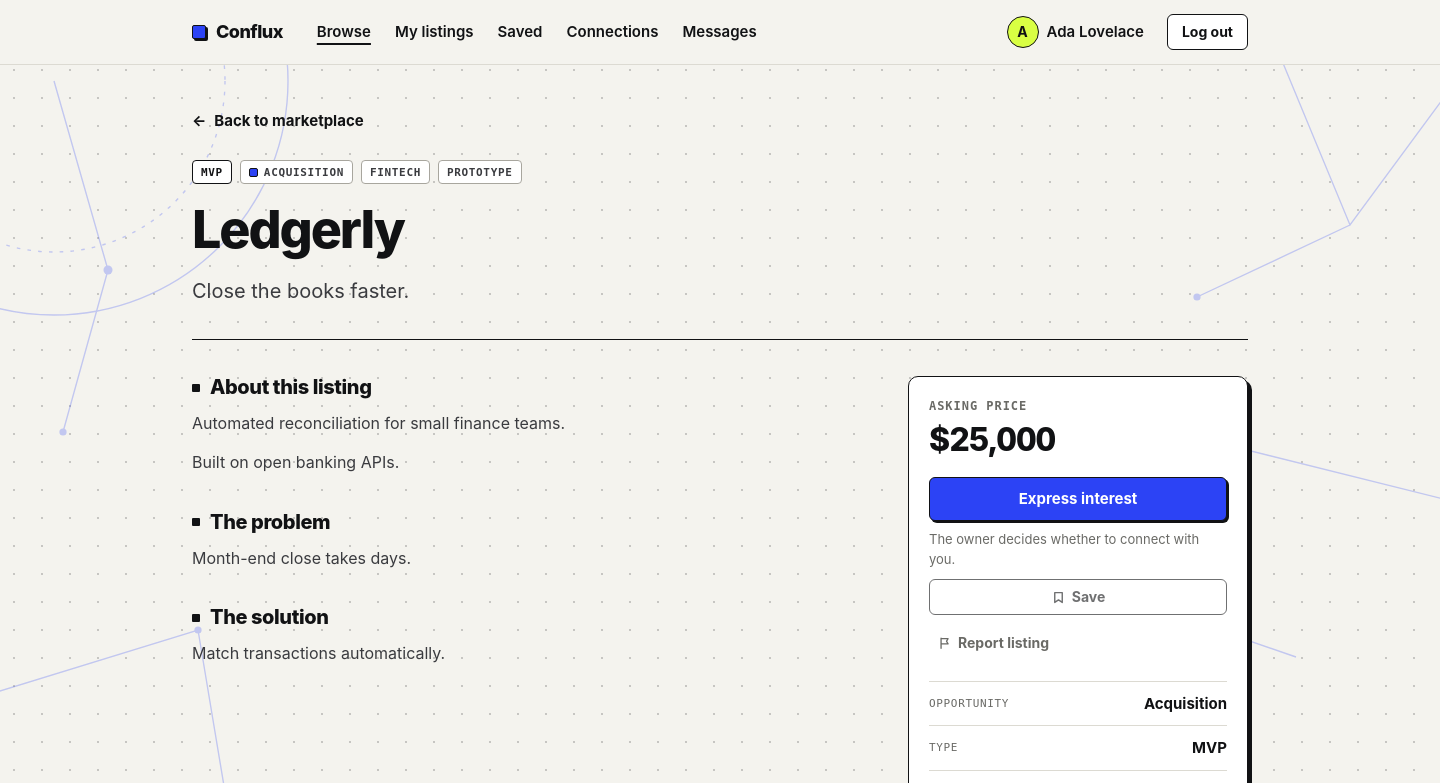
Express interest › sends a new request and shows it as pending, not as a connection
Click the button "Express interest".
click(1078, 499)  # box x1=929 y1=477 x2=1227 y2=521
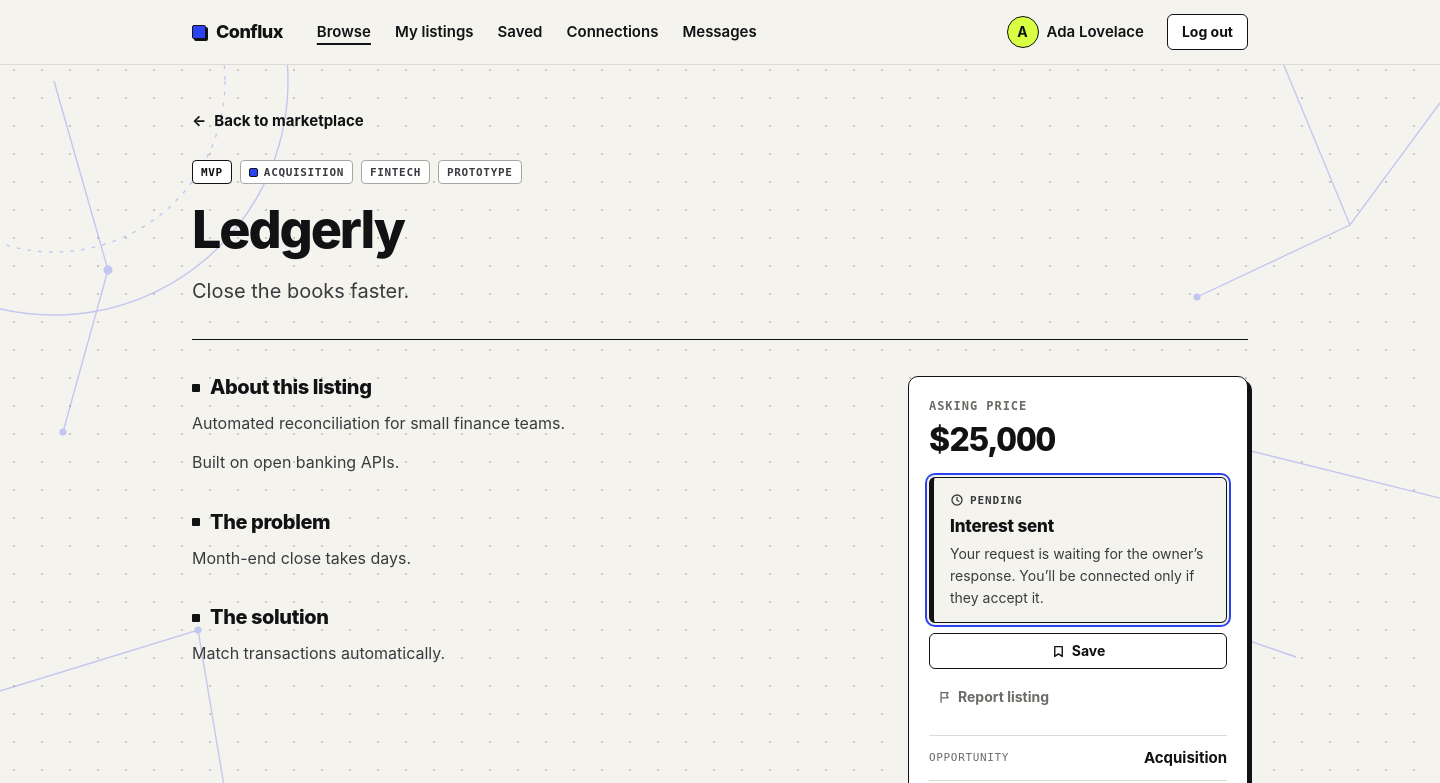
Expected: the message shows "Pending", x1=970 y1=494 x2=1022 y2=507
Expected: the message shows "Interest sent", x1=950 y1=516 x2=1054 y2=536
Expected: the message shows "You’ll be connected only if they accept it.", x1=950 y1=545 x2=1204 y2=606
